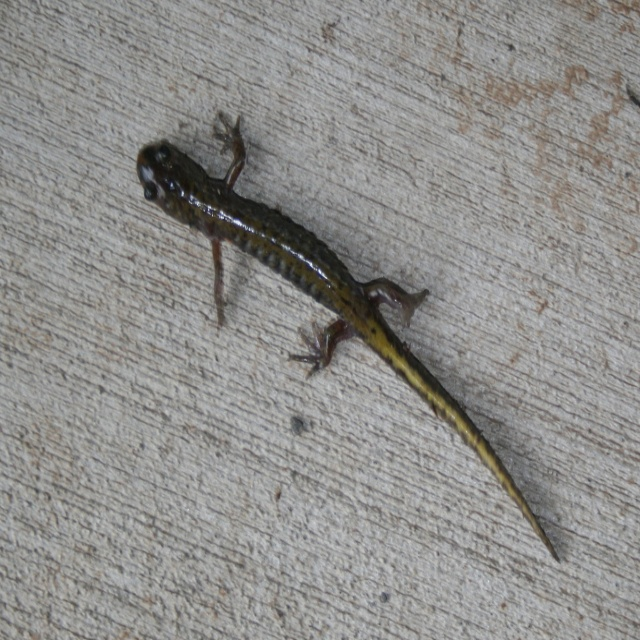Lizard: (139, 114, 562, 567)
